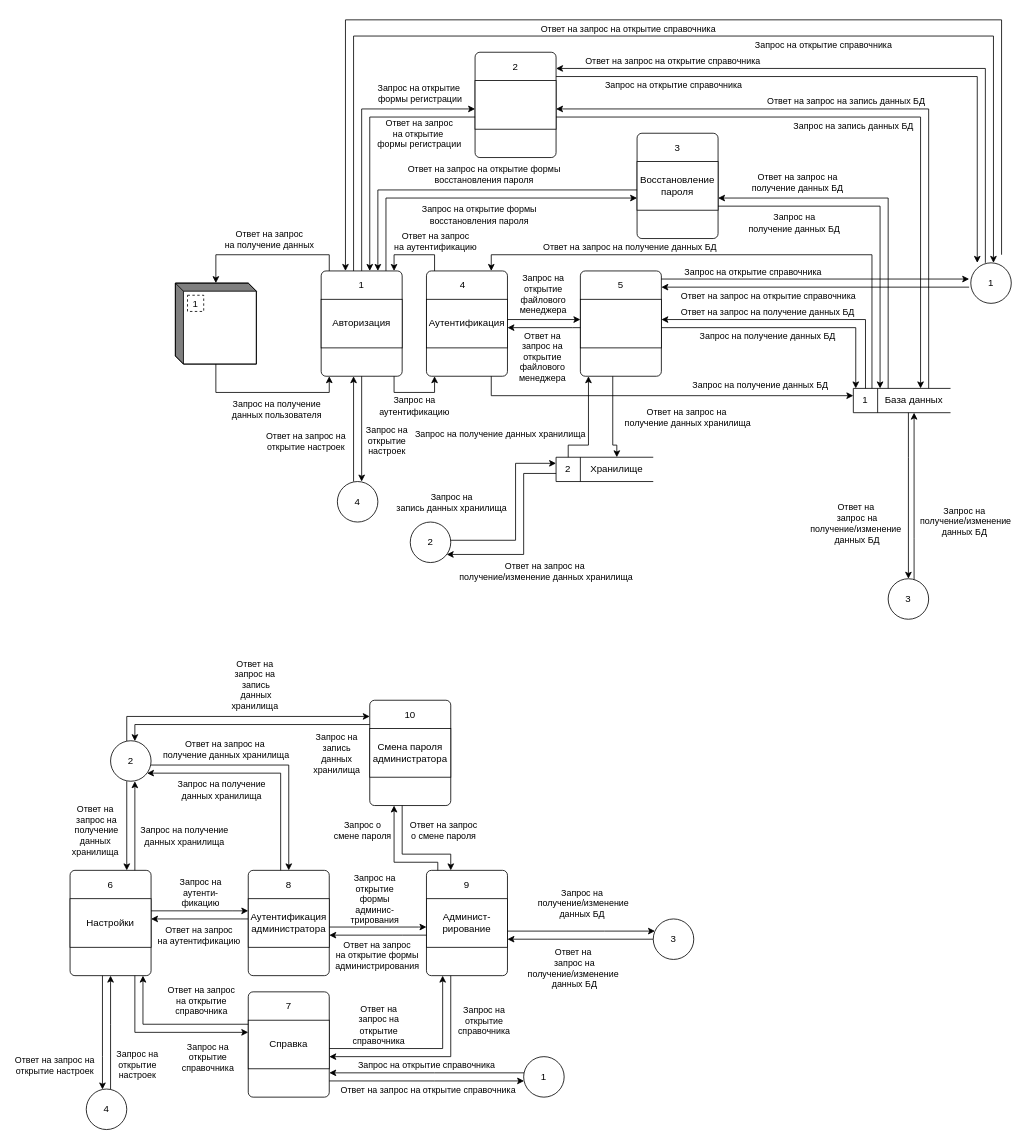
This 1025x1144 diagram has some shape labels left out. The shapes that lost their labels are listed below. From the top down, each one's centre as x and y in pixels, then its label:
At [515,104]: "Регистрация".
At [215,323]: "Пользователь".
At [620,323]: "Файловый менеджер".
